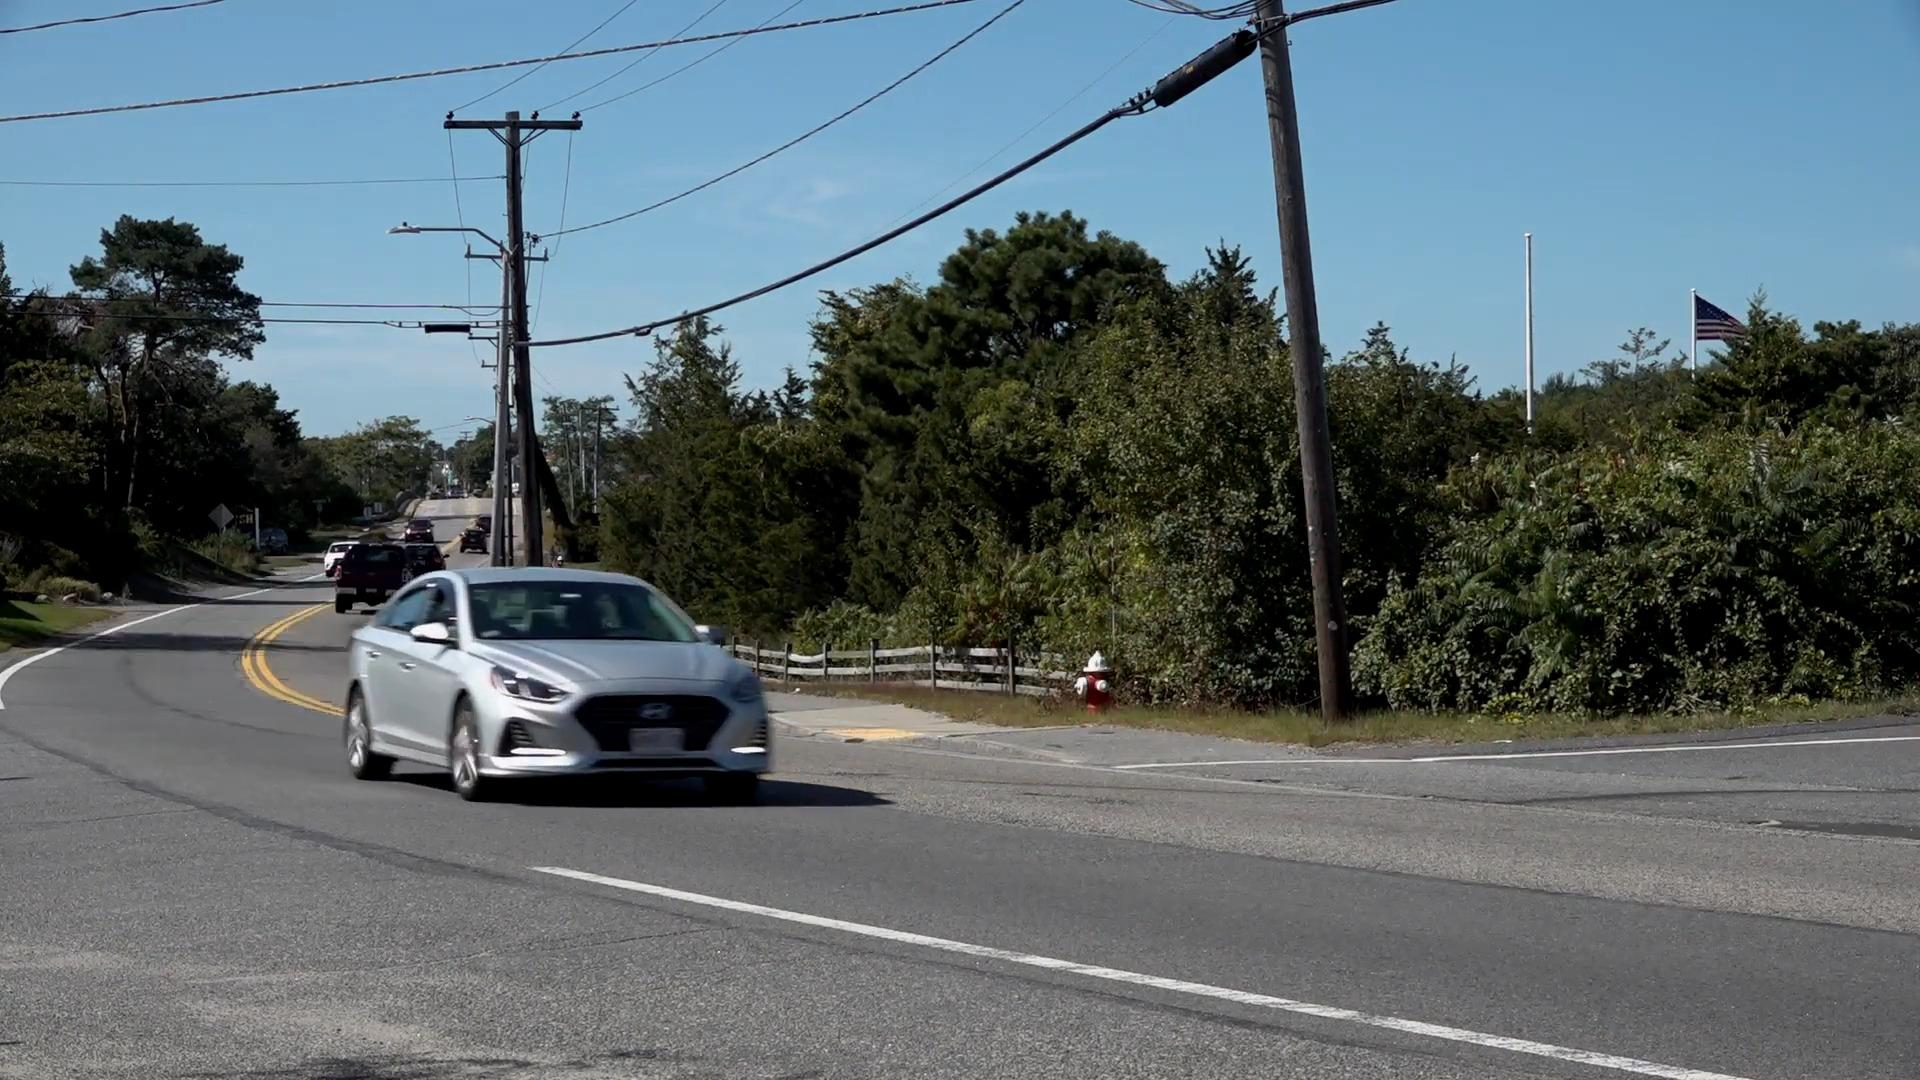sedans: (345, 572, 778, 799), (563, 670, 570, 676)
